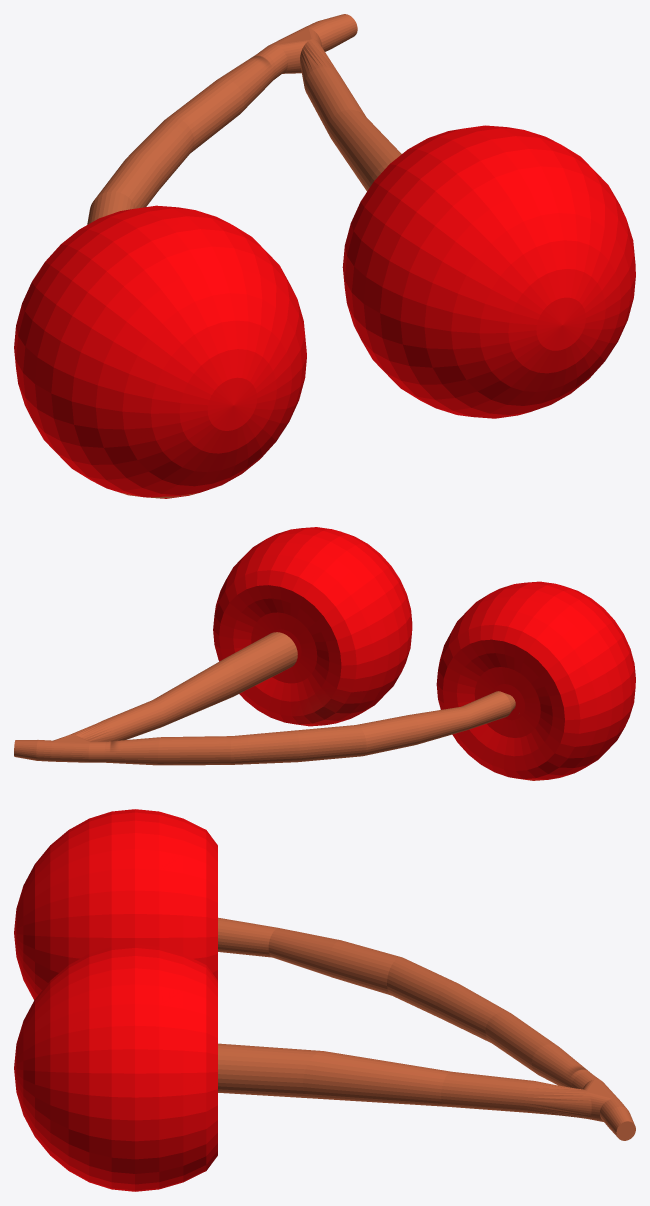
The model's file is fruit.obj.
The picture shows the model from 3 angles, top to bottom: view 1: azimuth 30°, elevation 25°; view 2: azimuth 150°, elevation 25°; view 3: azimuth 270°, elevation 25°; orthographic projection. The views are drawn at different scales.
Parts seen in each view (by area): view 1: Sphere; view 2: Sphere; view 3: Sphere.
Part boxes in pixels (box(x1,y1,x2,y2)): Sphere: box(14, 14, 635, 498); Sphere: box(14, 527, 635, 780); Sphere: box(14, 809, 635, 1191).
Bounding box in the file's own units: 1.46 × 0.6122 × 1.54.
1 material, 1 textured.
